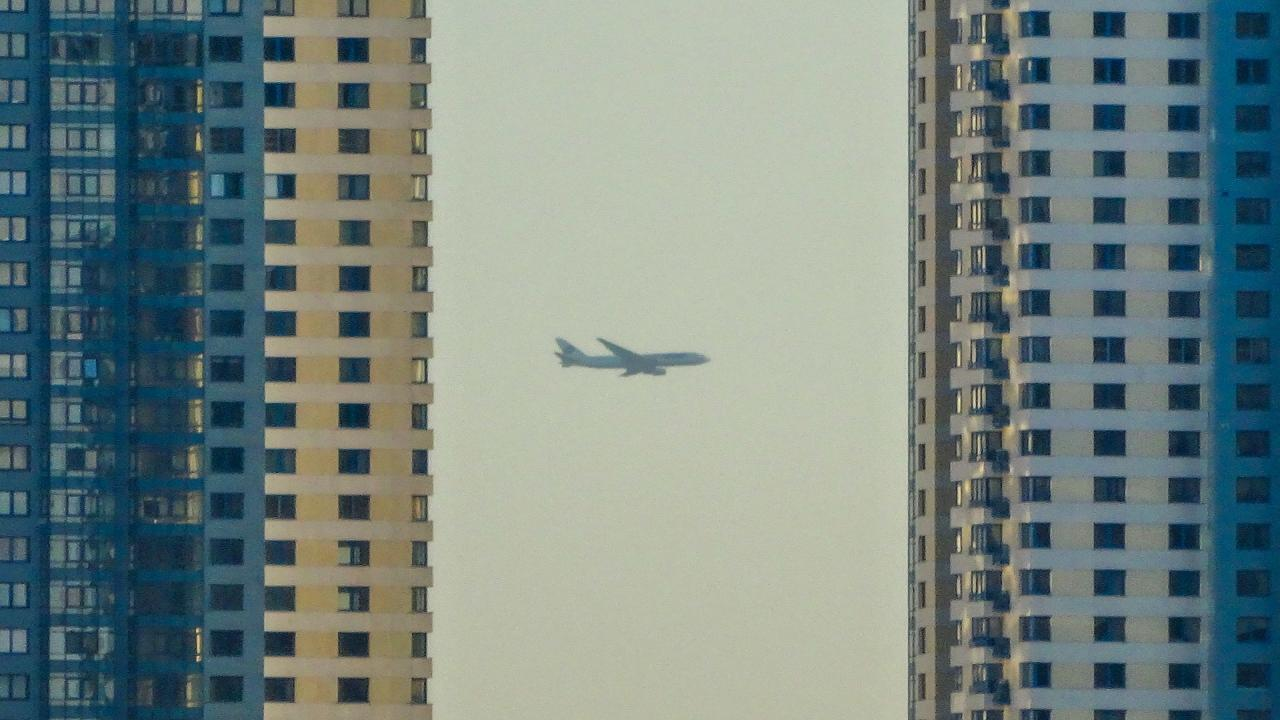Airplane: (538, 329, 720, 384)
